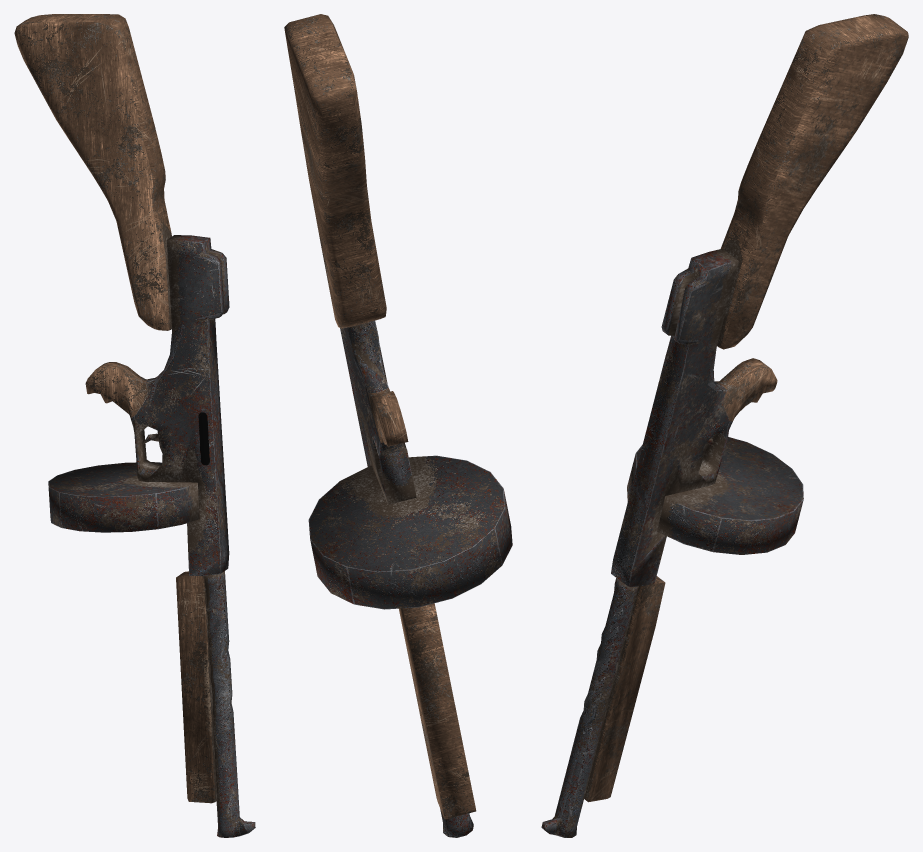
Rendered from Anim_idle_ametralladora_objetos.0049.obj.
3 renders of one model, left to right at view 1: azimuth 30°, elevation 25°; view 2: azimuth 150°, elevation 25°; view 3: azimuth 270°, elevation 25°, orthographic. The views are drawn at different scales.
Visible parts, largest first — view 1: Ametralladora1; view 2: Ametralladora1; view 3: Ametralladora1.
Boxes of the visible parts, <box> form: Ametralladora1: <box>14,14,255,837</box>; Ametralladora1: <box>284,14,512,837</box>; Ametralladora1: <box>541,14,908,837</box>.
Size of the model in its own units: 1.3 by 5.82 by 2.41.
